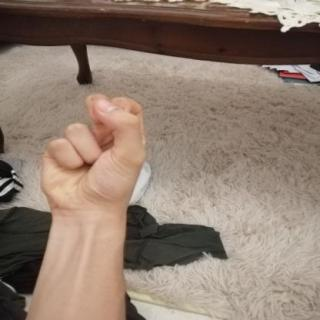QAAF: (28, 86, 159, 223)
